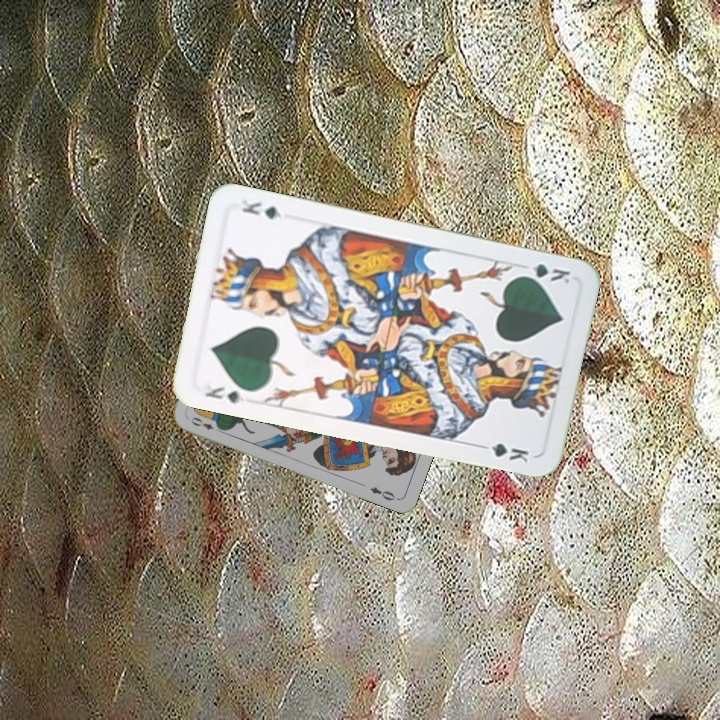EO: (186, 413, 225, 434)
GK: (515, 260, 573, 287), (201, 379, 248, 407)
